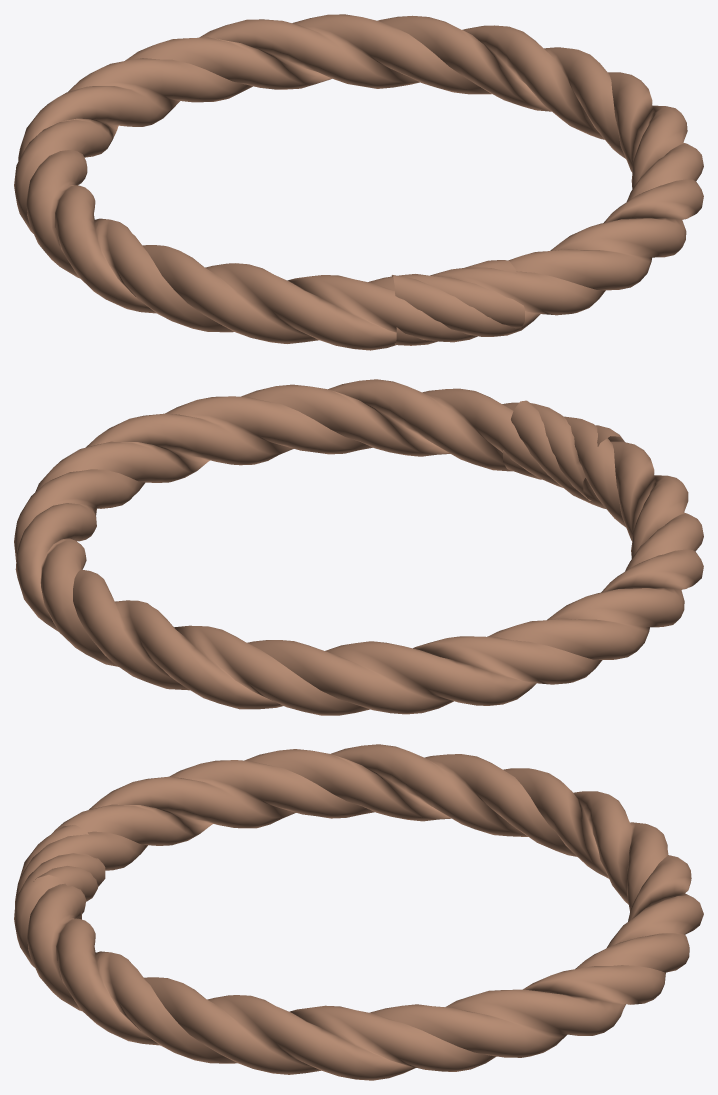
The model's file is rope_coil_bigger.glb.
3 renders of one model, top to bottom at view 1: azimuth 30°, elevation 25°; view 2: azimuth 150°, elevation 25°; view 3: azimuth 270°, elevation 25°, orthographic.
Parts seen in each view (by area): view 1: Circle.009; view 2: Circle.009; view 3: Circle.009.
Part boxes in pixels (x1=…): Circle.009: x1=14, y1=14, x2=703, y2=350; Circle.009: x1=14, y1=379, x2=703, y2=715; Circle.009: x1=14, y1=744, x2=703, y2=1080.
Bounding box in the file's own units: 1.29 × 0.1441 × 1.29.
